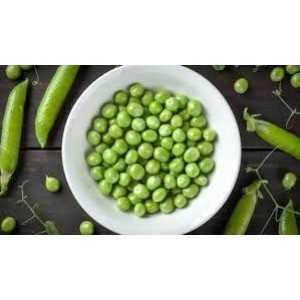green pea_brain food: (87, 111, 199, 204), (40, 171, 64, 195), (232, 75, 253, 99)
